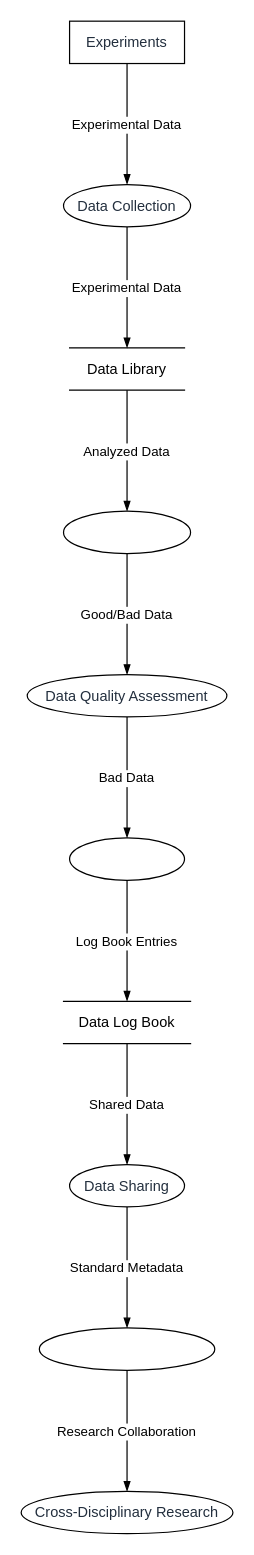
Some shapes in this 254 by 1555 pixel diagram are drawn without their labels. The shapes that lost their labels are listed below. From the top down, each one's centre as x and y in pixels, then its label:
pixel 126 532: Data Analysis
pixel 126 858: Data Hiding
pixel 126 1348: Data Standardization
